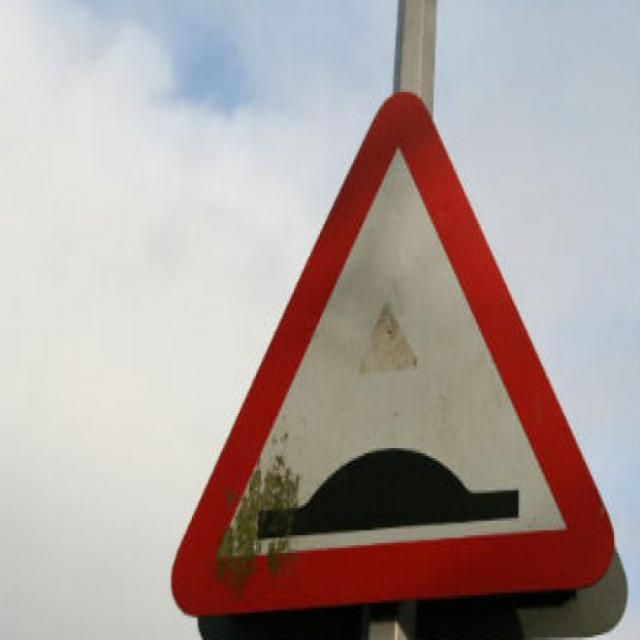hump: (167, 82, 623, 636)
